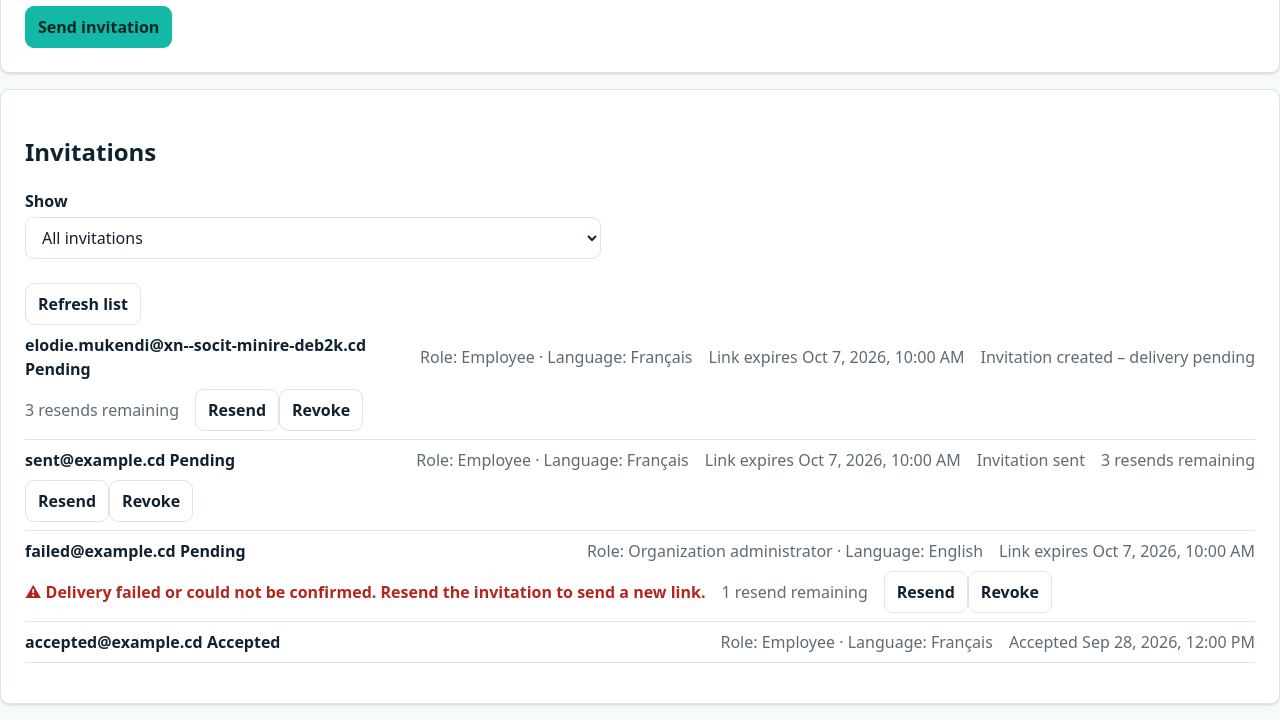
Test: users and invitations (en) › resends a failed delivery with a new link and warns once no resend remains
The image size is (1280, 720).
(page scrolled)
Expected: the list with test id "invitation-list" is shown, x1=25 y1=325 x2=1255 y2=663
Click the button "Resend" below "Role: Organization administrator". click: [926, 592]
box: x1=884 y1=571 x2=968 y2=613
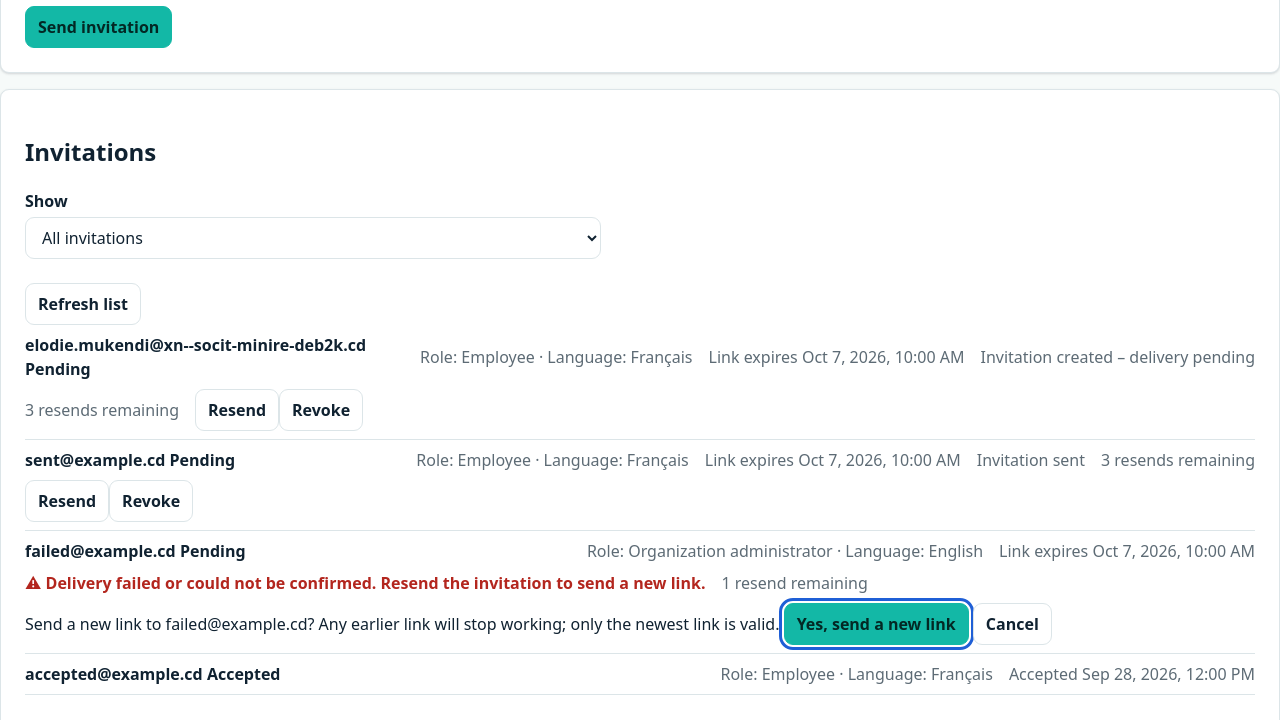
Click the button "Yes, send a new link". click: [876, 624]
box: x1=784 y1=603 x2=969 y2=645
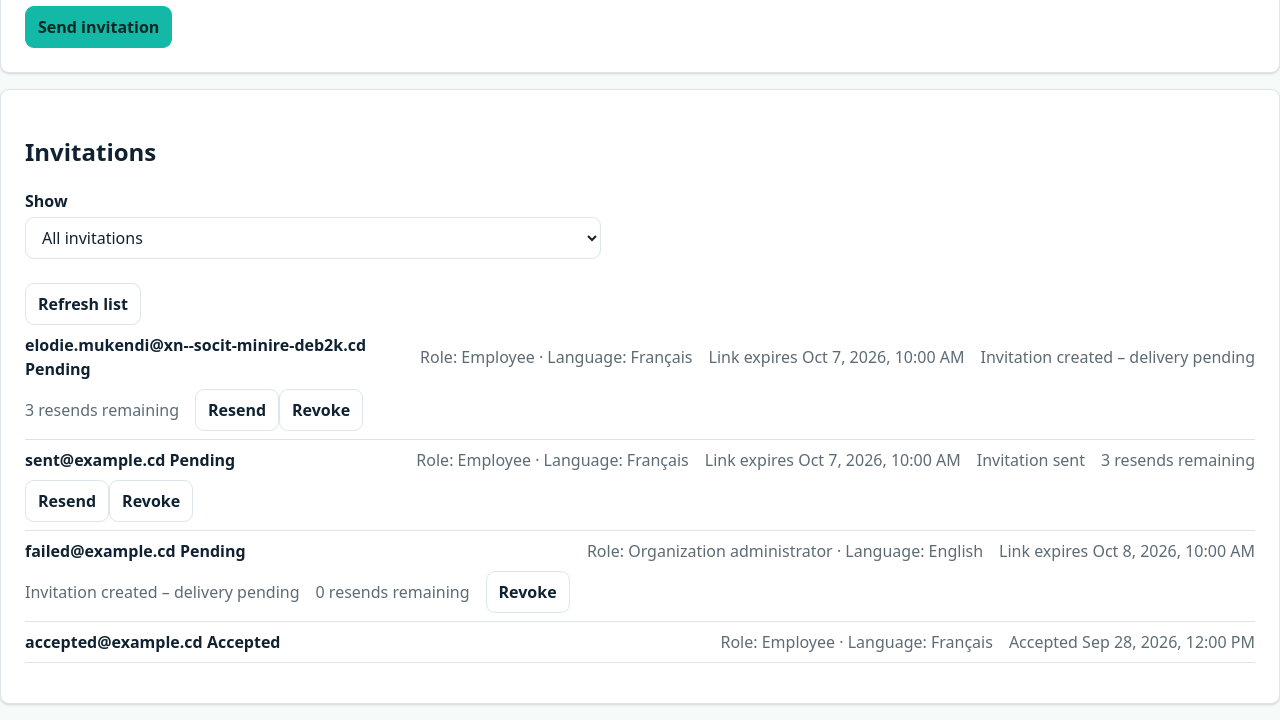
Now the text with test id "invitation-delivery" below "failed@example.cd" reads "Invitation created – delivery pending", box x1=25 y1=581 x2=300 y2=603
